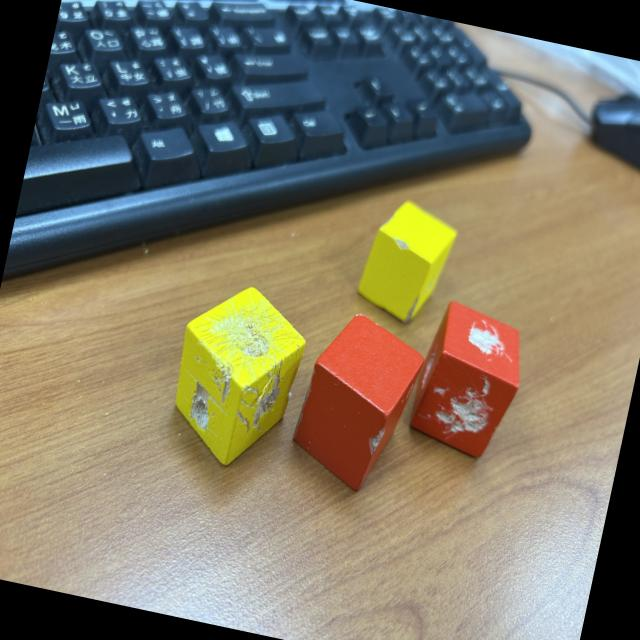broken: (158, 274, 314, 479), (283, 304, 431, 499), (404, 296, 534, 464), (350, 192, 462, 332)
